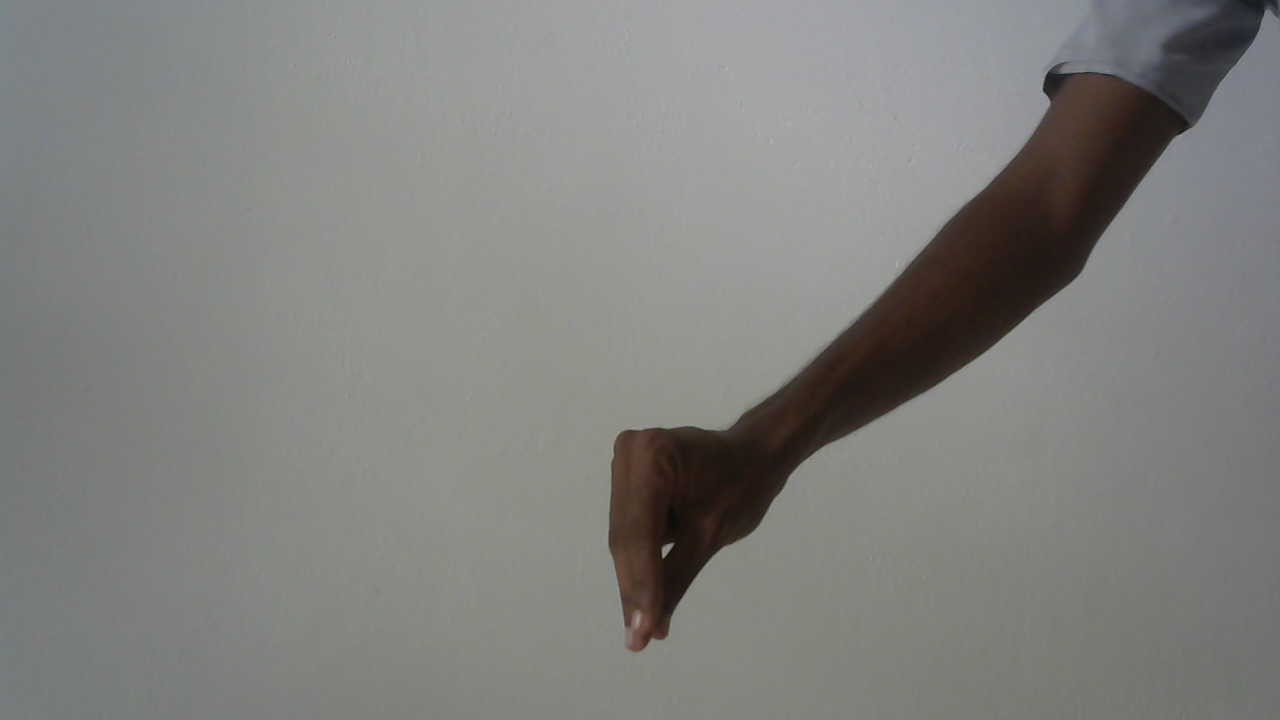no: (597, 413, 796, 657)
